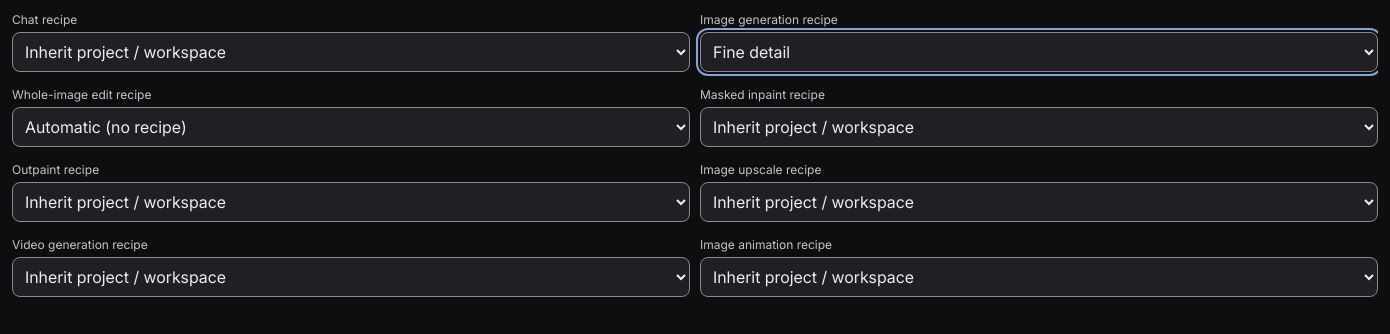
Test: keeps focus while saving and restores the confirmed choice on failure
Select "Automatic (no recipe)" in the dropdown labelled "Image generation recipe" at (1039, 52), box [700,32,1378,72]
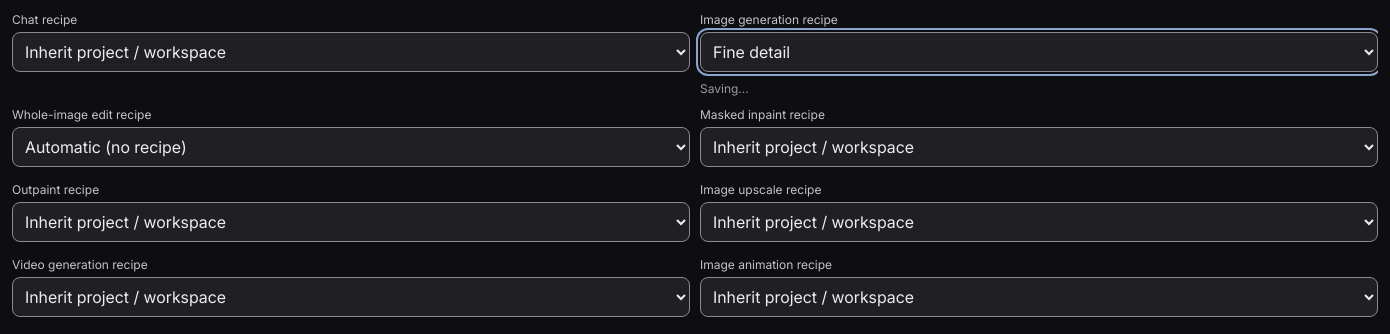
Select "Inherit project / workspace" in the dropdown labelled "Image generation recipe" at (1039, 52), box [700,32,1378,72]
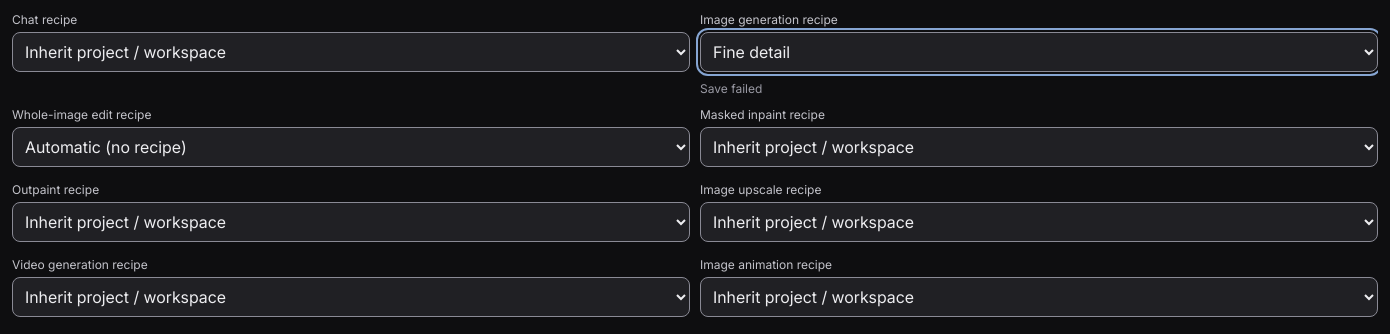
Expected: the text "Save failed" is shown, [700,81,762,96]
